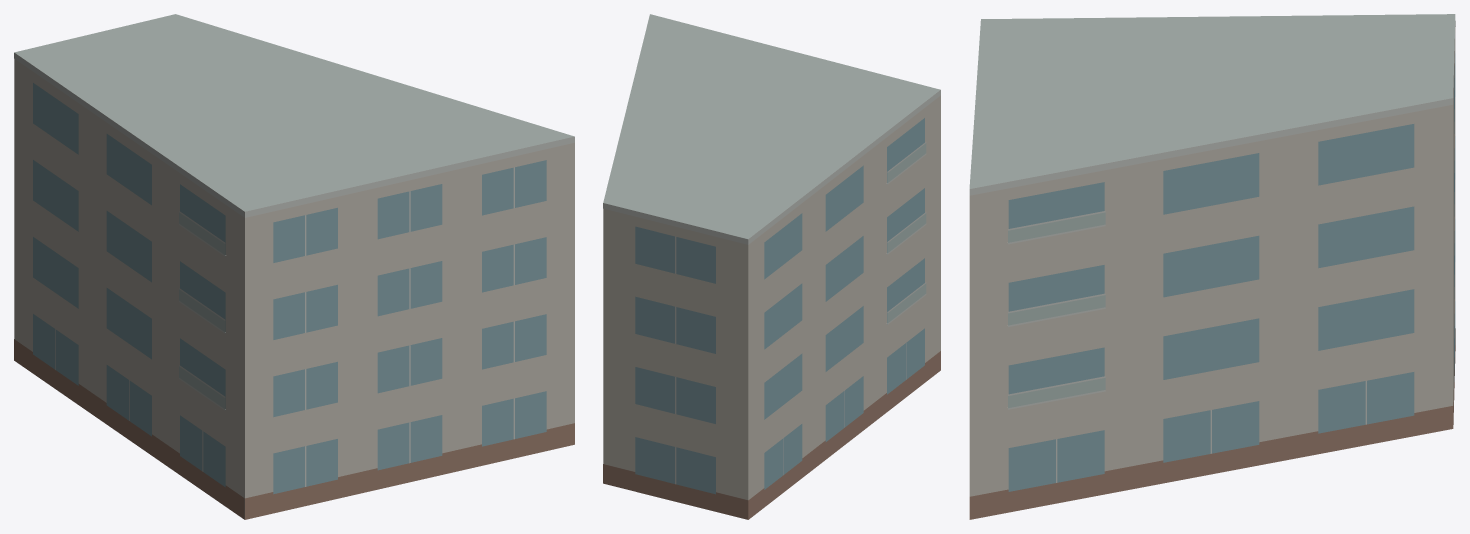
Rendered from survey-upis-33000516.glb.
3 views of the same model, side by side, from view 1: azimuth 30°, elevation 25°; view 2: azimuth 150°, elevation 25°; view 3: azimuth 270°, elevation 25° (orthographic). The views are drawn at different scales.
Parts seen in each view (by area): view 1: survey-upis-33000516.tmp; view 2: survey-upis-33000516.tmp; view 3: survey-upis-33000516.tmp.
Part boxes in pixels (x1,y1,x2,y2): survey-upis-33000516.tmp: (14, 14, 574, 519); survey-upis-33000516.tmp: (603, 14, 940, 519); survey-upis-33000516.tmp: (969, 14, 1455, 519).
Size of the model in its own units: 13.87 by 12.2 by 16.26.
